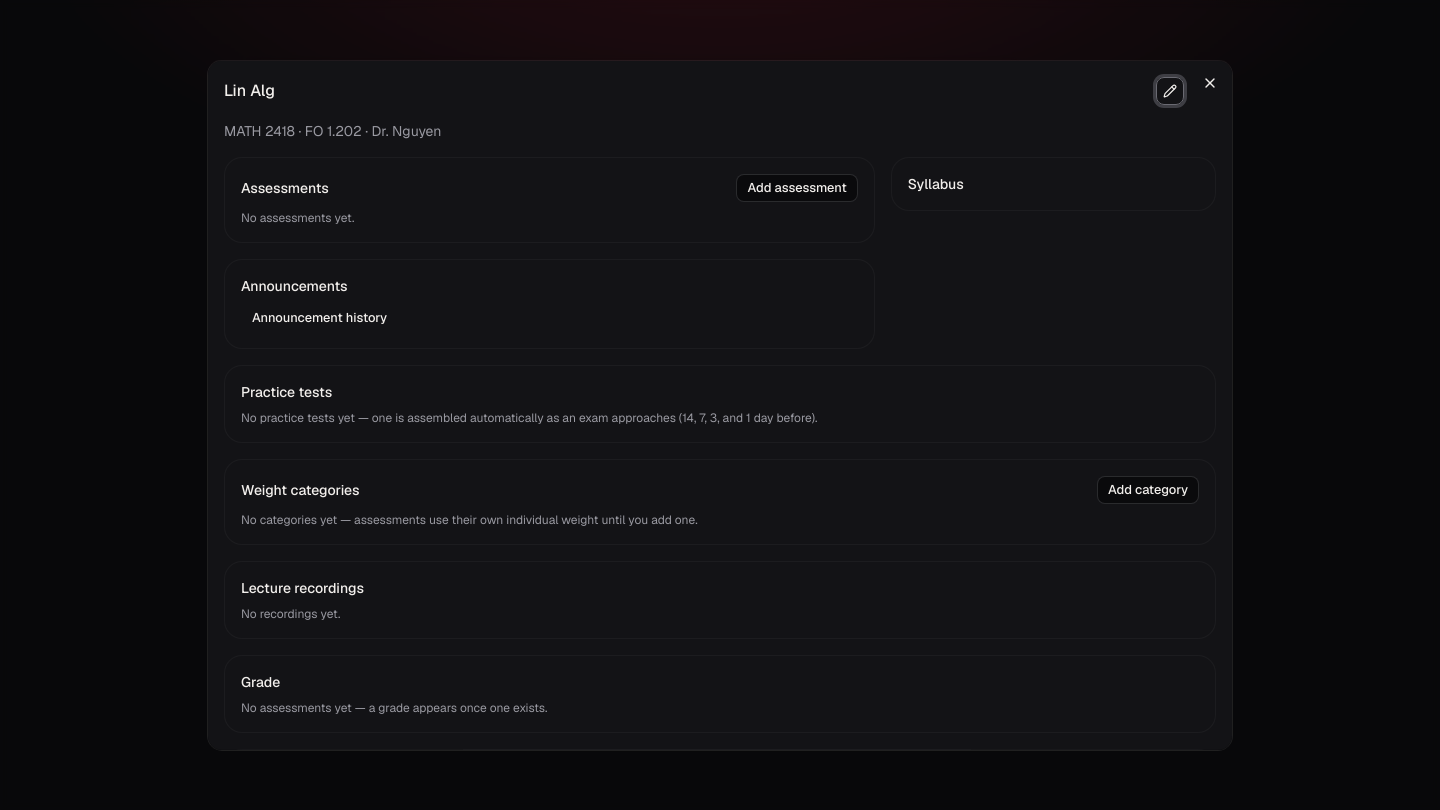
it: ClassDetailDialog › Cancel discards a staged course-detail edit without writing through, and it stays discarded
Click the button named "Edit Lin Alg" at (1170, 91), box [1156,77,1184,105]
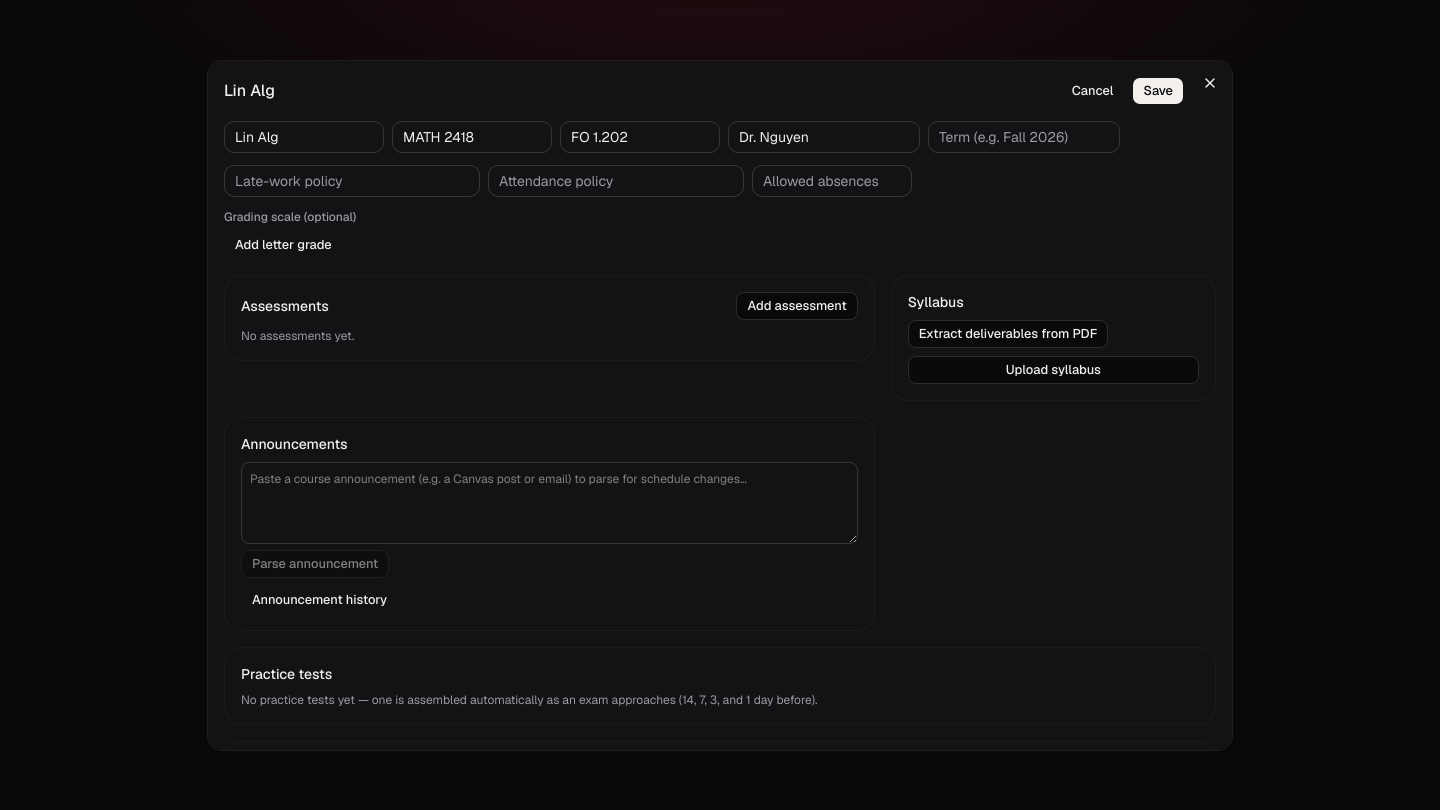
Replace the text in the 2nd field with placeholder "Room" with "ROLLBACK-SENTINEL" at (640, 137), box [560,121,720,153]
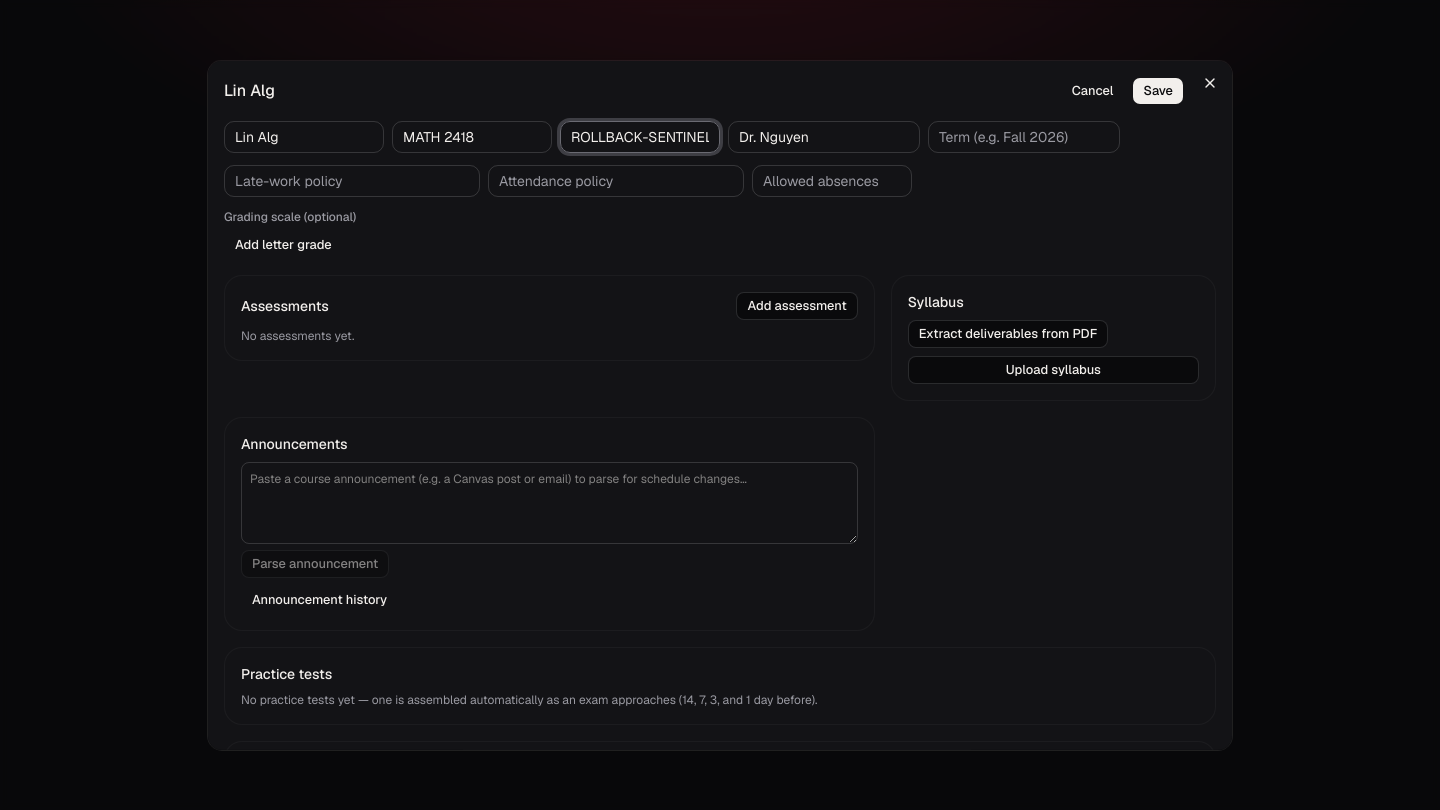
Click the button with aria-label "Cancel Lin Alg" at (1093, 91), box [1061,77,1124,105]
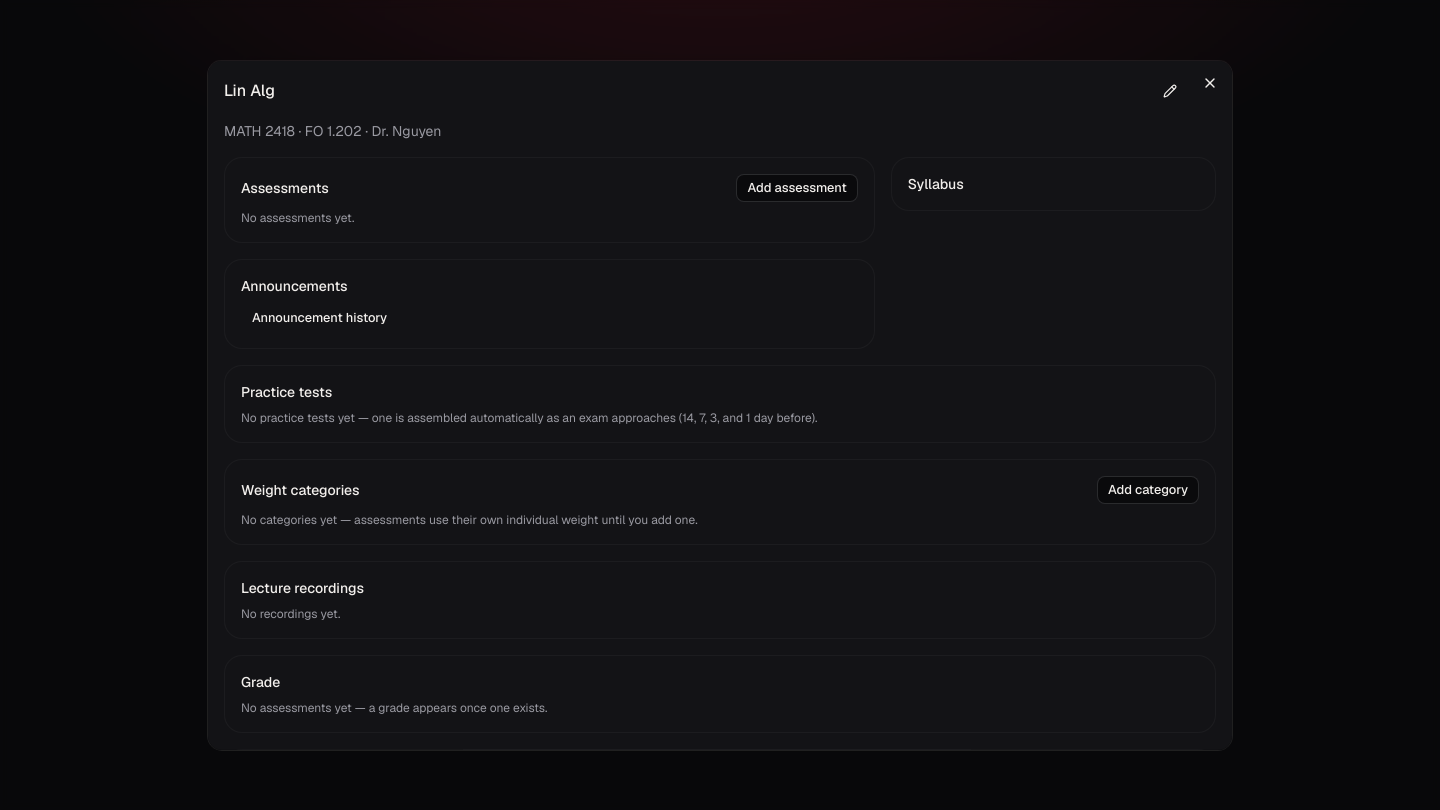
Check: the text "ROLLBACK-SENTINEL" is not shown
Check: the text "MATH 2418 · FO 1.202 · Dr. Nguyen" is shown, box [224,122,441,140]
